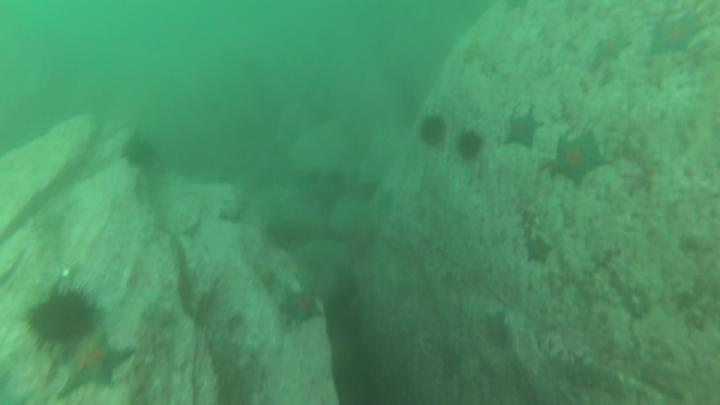echinus: (24, 289, 101, 352), (119, 139, 161, 176), (416, 113, 452, 150), (455, 126, 487, 166)
starfish: (56, 334, 136, 397), (548, 133, 609, 189), (648, 11, 707, 59), (278, 282, 328, 331), (477, 307, 520, 356), (502, 105, 541, 149), (434, 342, 467, 383), (594, 28, 633, 62), (521, 233, 555, 268)
